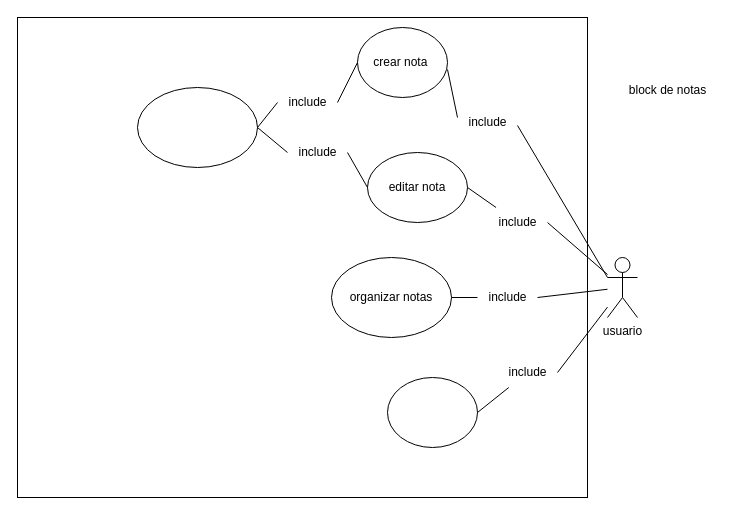
Image size: 735x515. Some labels were removed from this diagram. Here are the shapes that lost their labels. From the top down, the centre of each, then its label:
(197,127): sincronizar nube
(432,412): eliminar nota
